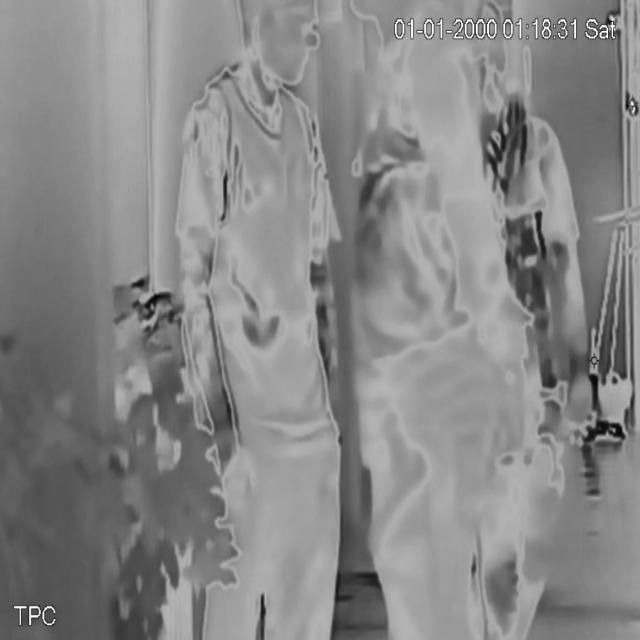Weapon: (362, 388, 442, 576)
